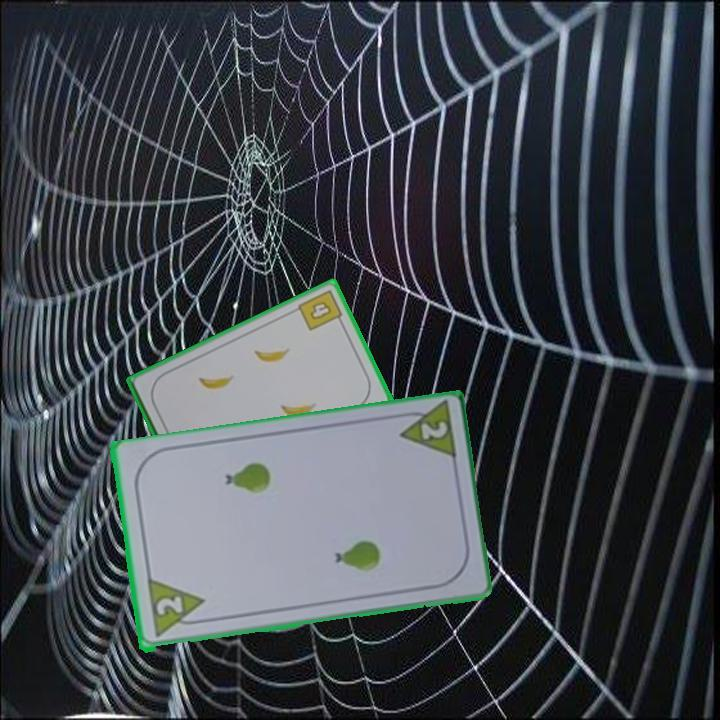2p: (416, 418, 450, 444), (152, 593, 185, 619)
4b: (294, 286, 346, 334)
